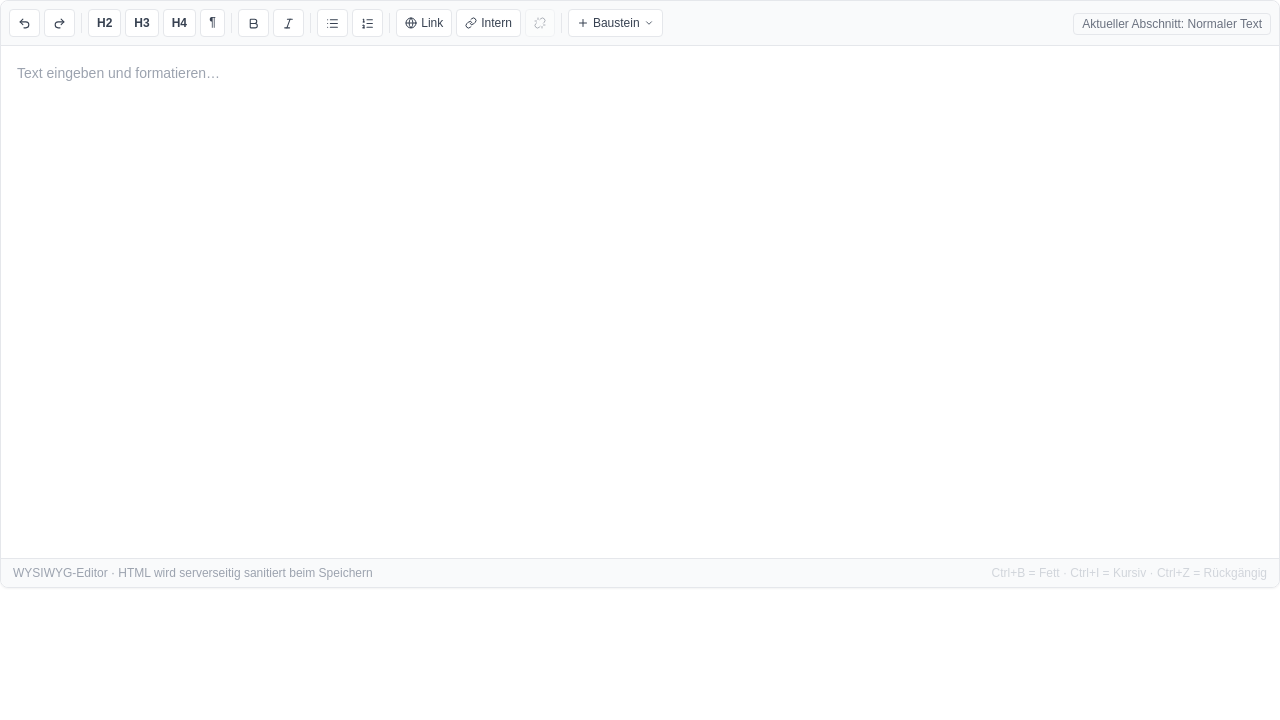
Test case: AdminRichTextEditor: URL-Sicherheit im Link-Panel › Zeigt Fehler bei vbscript:-URL
Press the mouse on the button titled "Externer Link" at (424, 23), box [396,9,452,37]
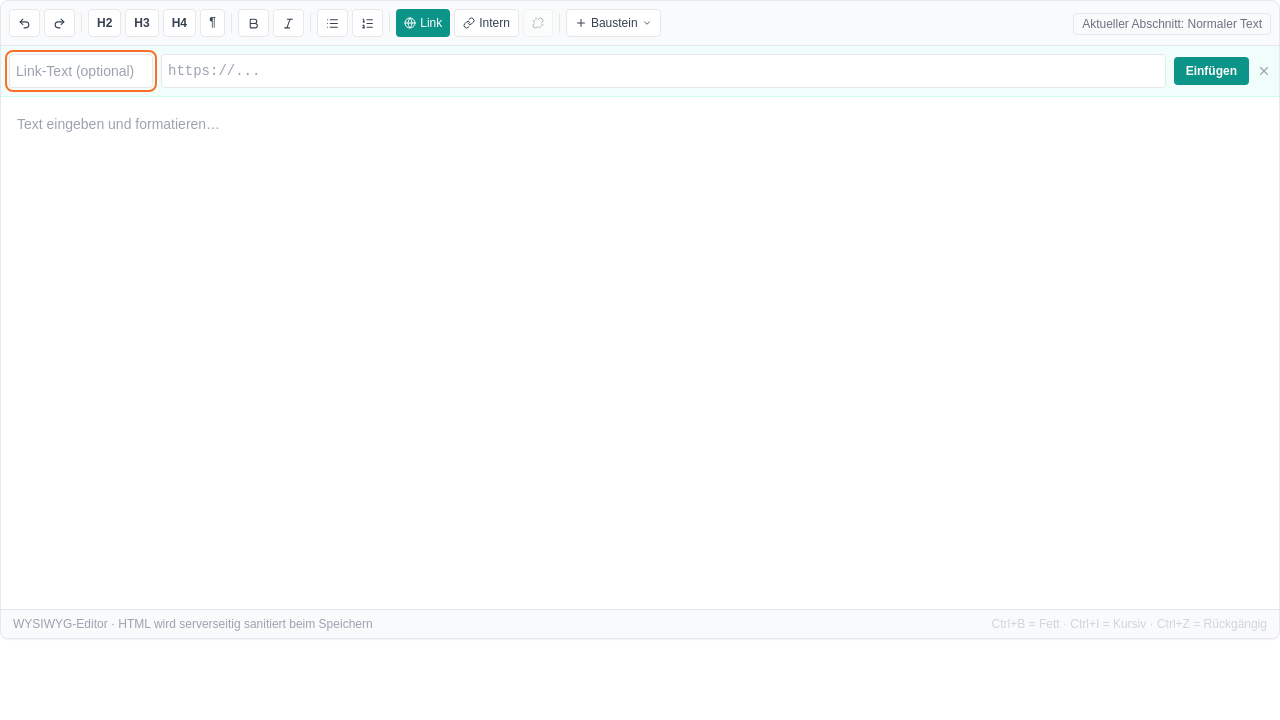
Type "vbscript:msgbox(1)" into the field with placeholder "https://..." at (663, 71), box [161,54,1166,88]
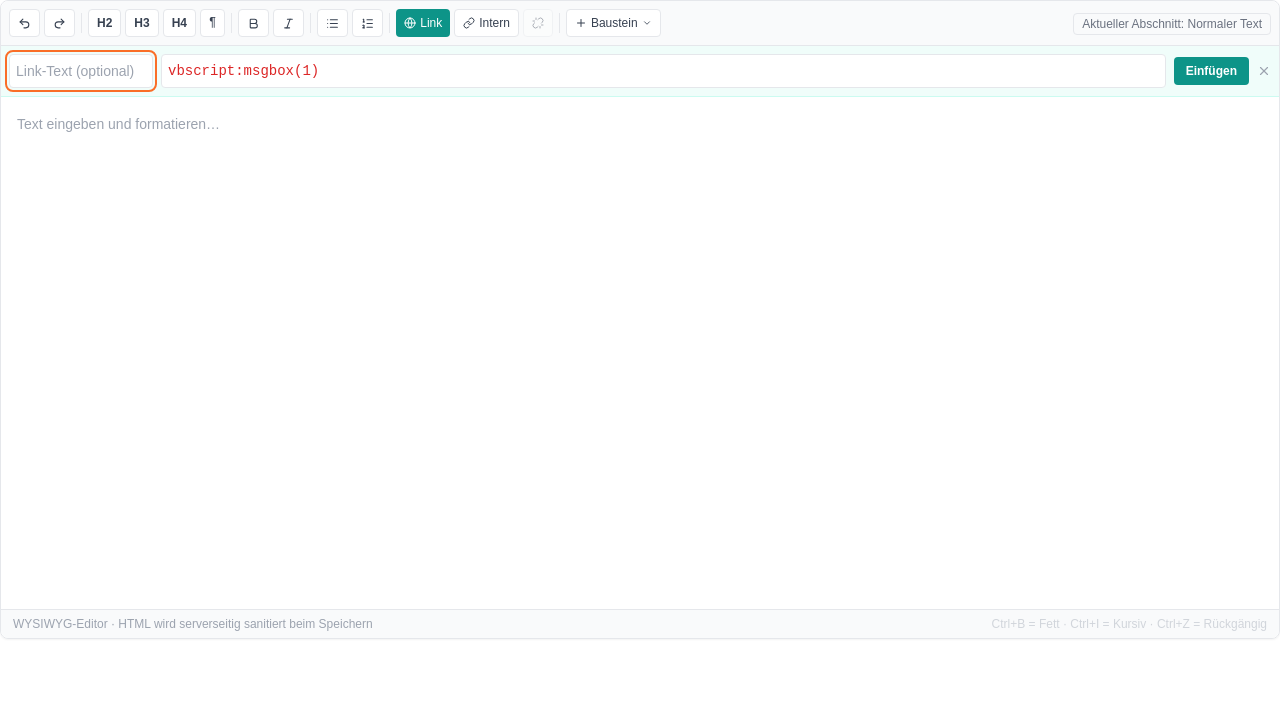
Click the button "Einfügen" at (1211, 71), box [1174,57,1249,85]
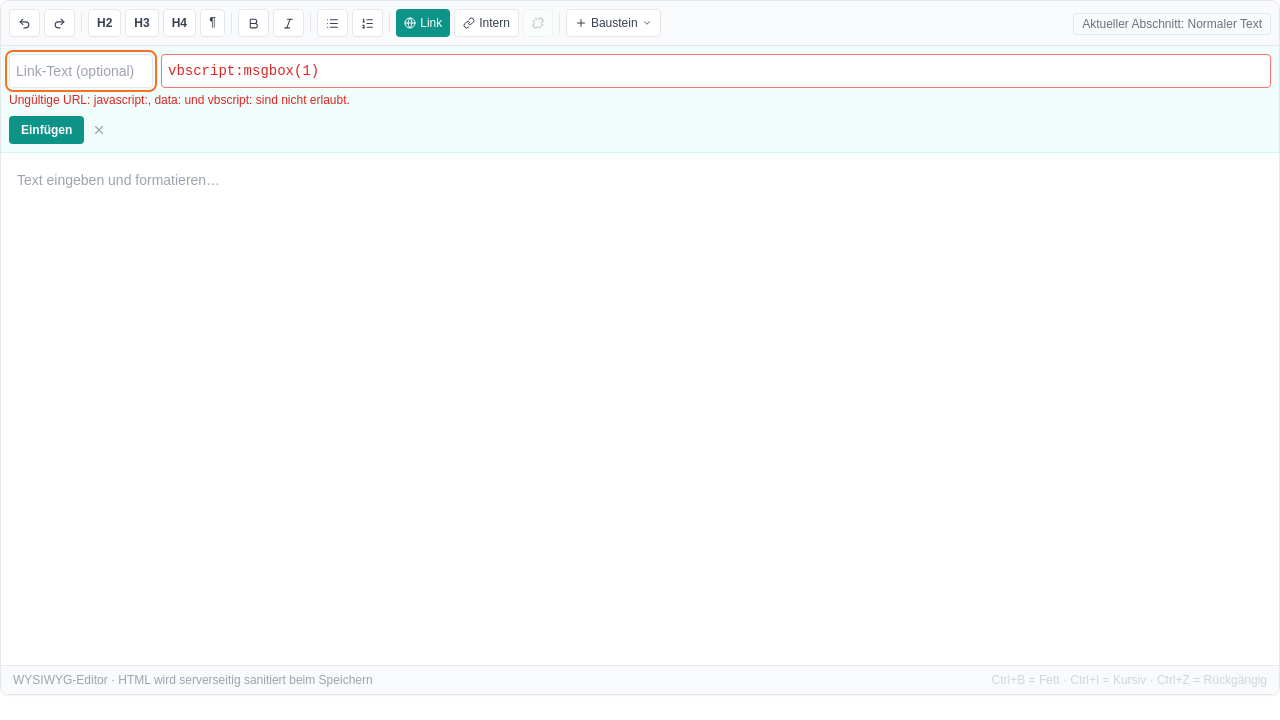
Expected: the message "Ungültige URL: javascript:, data: und vbscript: sind nicht erlaubt." is shown, [9,93,350,107]
